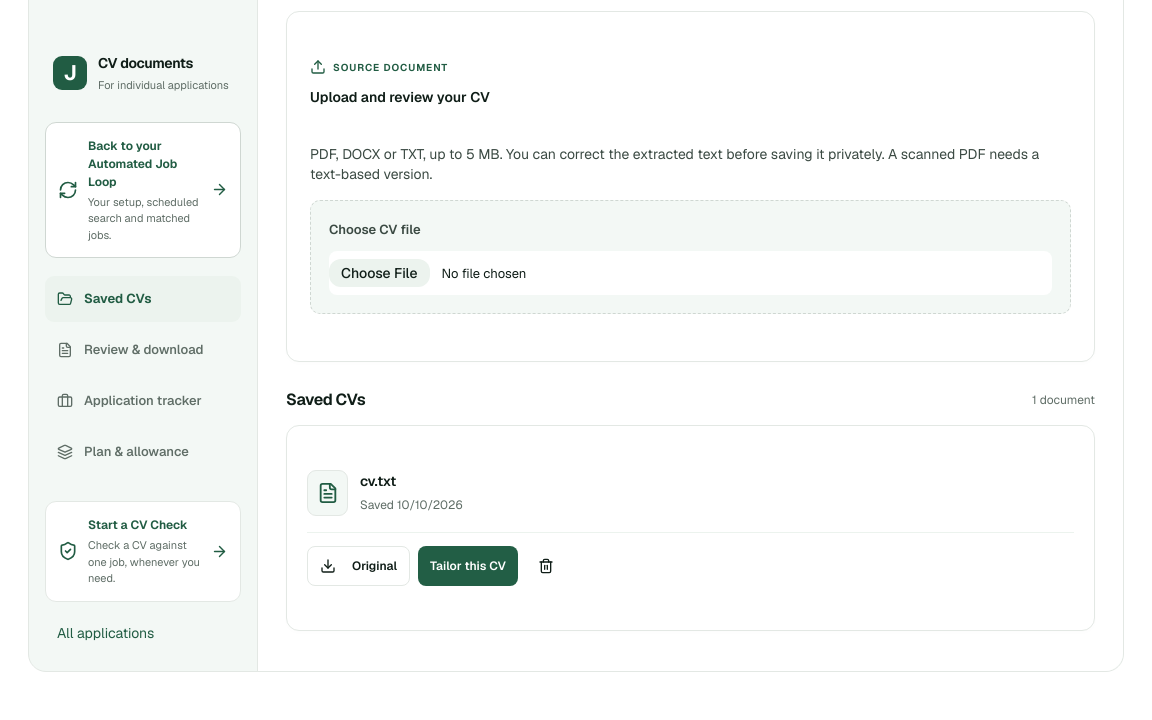
it: Real workspace journey and truthful failures › keeps saved CV controls usable while pack access is unavailable
The width and height of the screenshot is (1152, 720).
(page scrolled)
Expected: the heading "cv.txt" is shown, x1=360 y1=472 x2=396 y2=490
Expected: the button "Original" is enabled, x1=307 y1=546 x2=410 y2=586
Click the button "Tailor this CV".
click(468, 566)  # box x1=418 y1=546 x2=518 y2=586
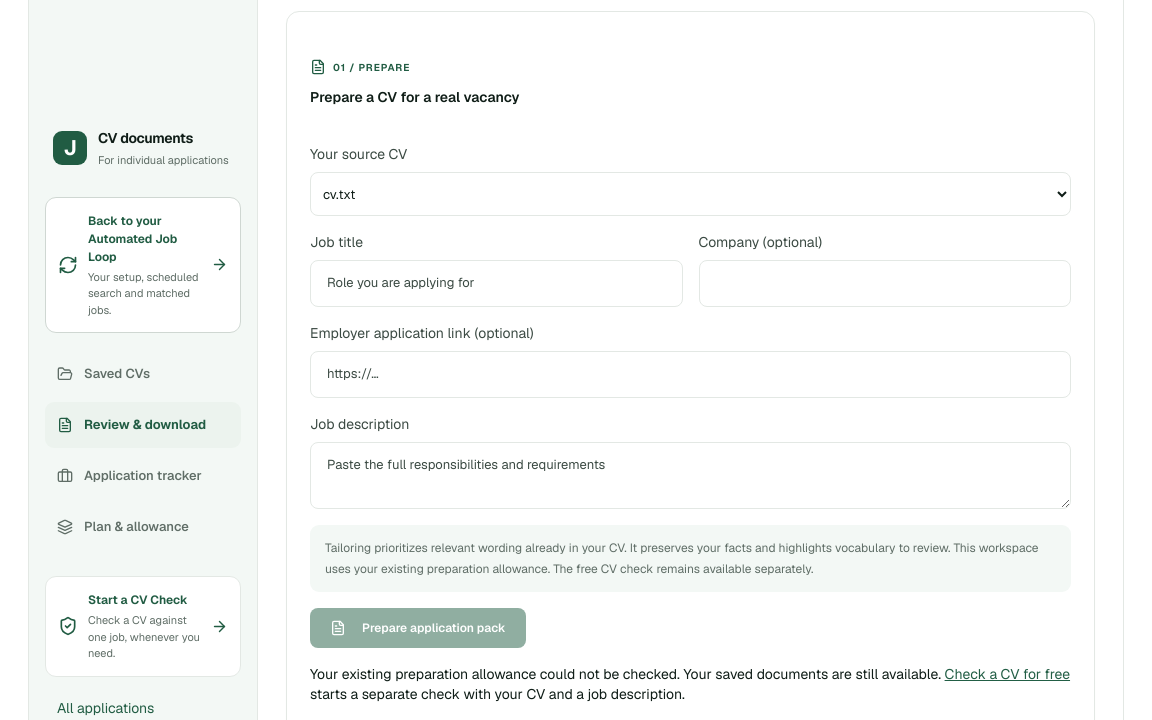
Now the button "Prepare application pack" is disabled, box x1=310 y1=608 x2=526 y2=648
